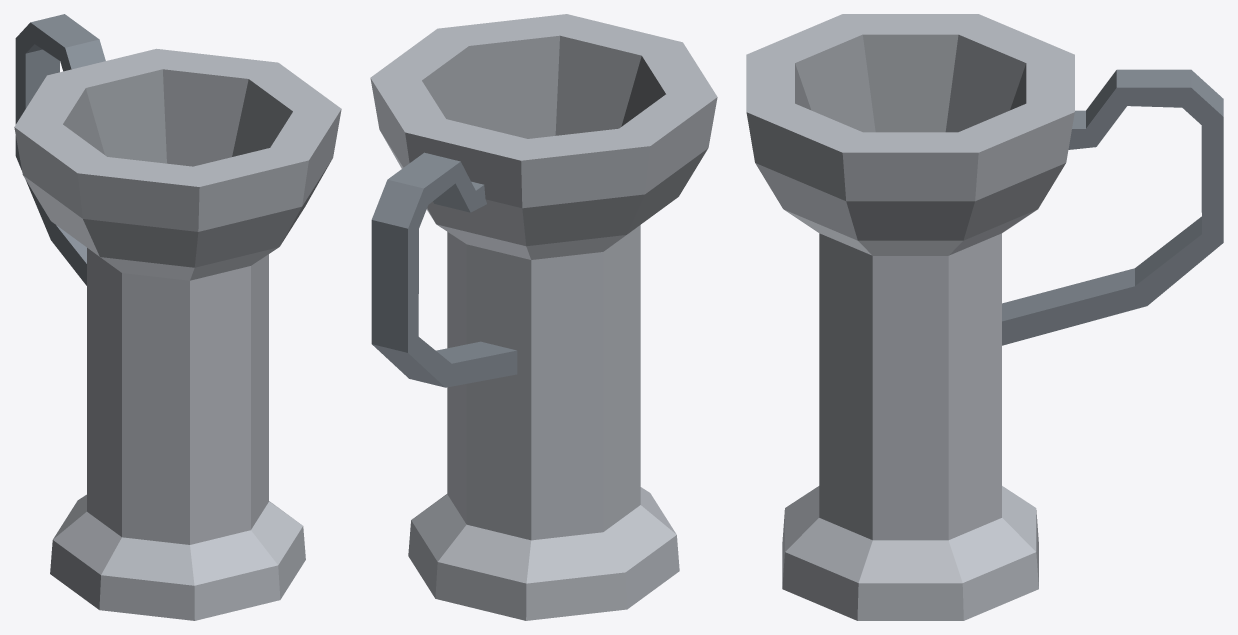
Rendered from SM_Prop_Vase_Tall_01.glb.
3 views of the same model, side by side, from view 1: azimuth 30°, elevation 25°; view 2: azimuth 150°, elevation 25°; view 3: azimuth 270°, elevation 25° (orthographic). The views are drawn at different scales.
Visible parts, largest first — view 1: SM_Prop_Vase_Tall_01; view 2: SM_Prop_Vase_Tall_01; view 3: SM_Prop_Vase_Tall_01.
Boxes of the visible parts, x1=… form: SM_Prop_Vase_Tall_01: x1=14, y1=14, x2=341, y2=620; SM_Prop_Vase_Tall_01: x1=370, y1=14, x2=717, y2=620; SM_Prop_Vase_Tall_01: x1=746, y1=14, x2=1223, y2=620.
Size of the model in its own units: 0.2891 by 0.474 by 0.42.
Materials: 1 (1 with a texture image).
